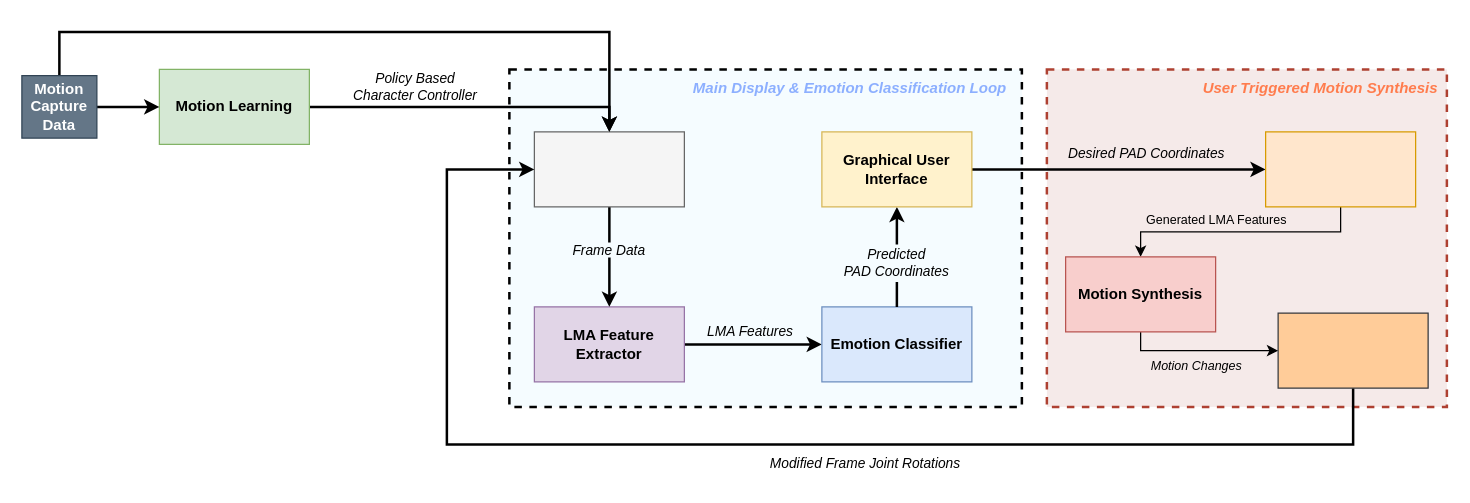
Some shapes in this 1470 by 503 pixel diagram are drawn without their labels. The centre of each missing label's shape, as x and y in pixels:
"Inverse Kinematics Solver" belongs at (x=1352, y=350).
"LMA Feature Generation" belongs at (x=1340, y=169).
"Motion Display" belongs at (x=608, y=169).
